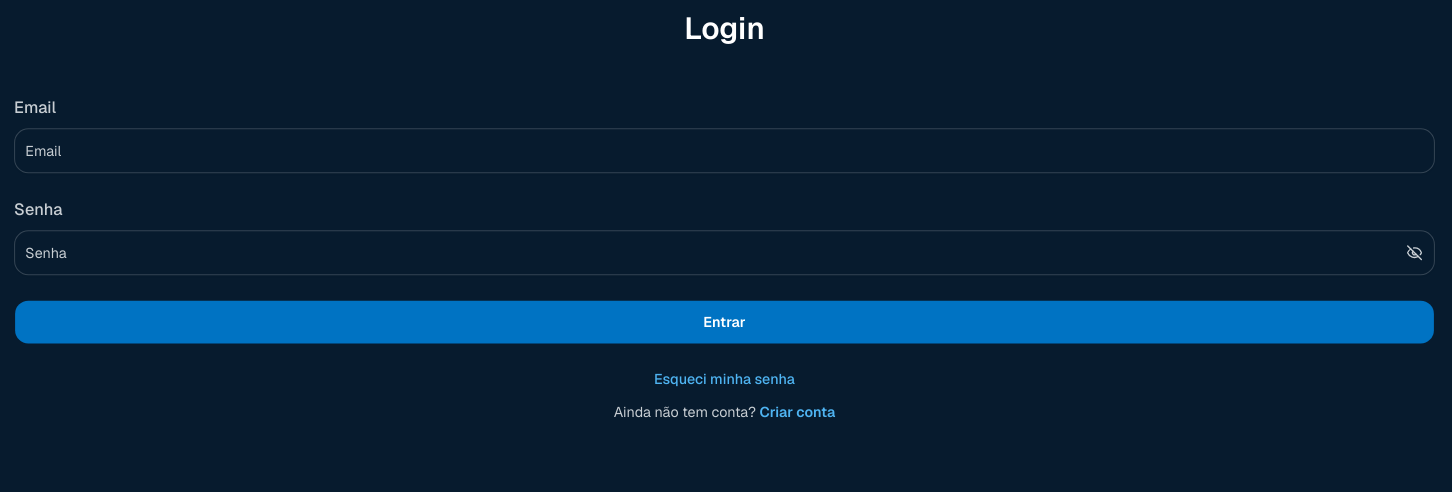
it: LoginPageView › valida campos obrigatórios
This screenshot has width=1452, height=492.
Click the button "Entrar" at (725, 322), box [14,300,1435,344]
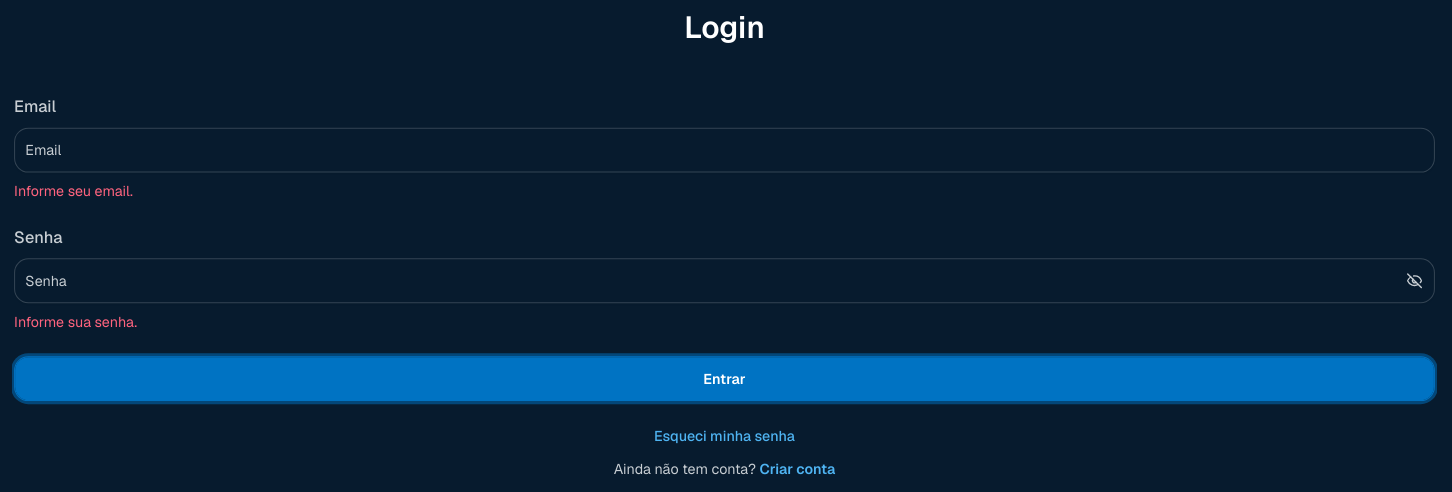
Expected: the text "Informe seu email." is shown, [14,182,133,200]
Expected: the text "Informe sua senha." is shown, [14,312,137,331]
